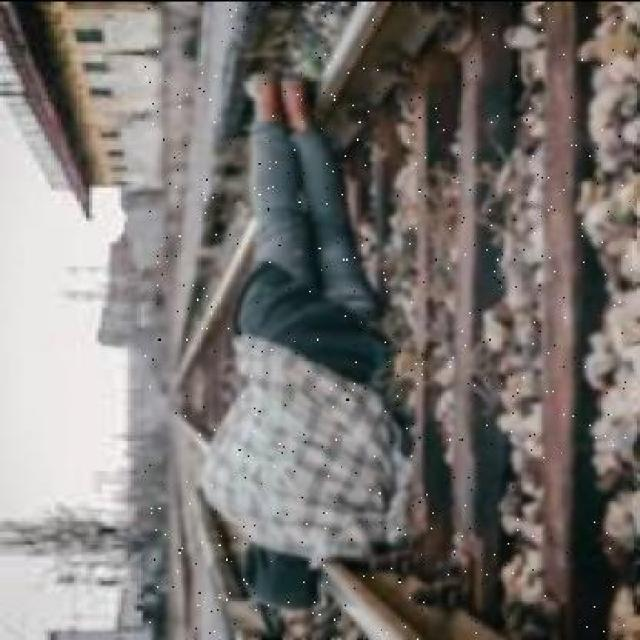danger: (228, 67, 384, 616)
rail: (145, 6, 632, 638)
